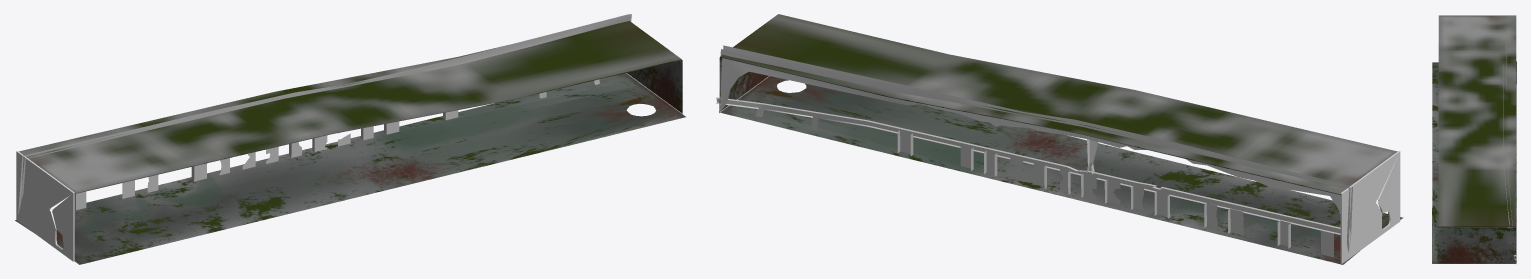
The model's file is parois_salle_4_bonne_taille.fbx.
3 views of the same model, side by side, from view 1: azimuth 30°, elevation 25°; view 2: azimuth 150°, elevation 25°; view 3: azimuth 270°, elevation 25° (orthographic). The views are drawn at different scales.
Visible parts, largest first — view 1: fishs.046, salle4/4.002, fond, Plane, salle4/4.001; view 2: salle4/4.002, fishs.046, fond, Plane, salle4/4.001; view 3: salle4/4.002, salle4/4.001, fishs.046, fond, Plane.
Boxes of the visible parts, x1,y1,x2,y2 form: fishs.046: [15, 73, 685, 264]; salle4/4.002: [19, 21, 681, 193]; fond: [18, 14, 631, 214]; Plane: [16, 151, 74, 261]; salle4/4.001: [627, 59, 682, 113]; salle4/4.002: [720, 14, 1397, 194]; fishs.046: [720, 76, 1403, 264]; fond: [716, 45, 1352, 257]; Plane: [1340, 151, 1400, 263]; salle4/4.001: [719, 57, 768, 110]; salle4/4.002: [1438, 16, 1516, 226]; salle4/4.001: [1437, 227, 1515, 263]; fishs.046: [1432, 61, 1516, 263]; fond: [1503, 41, 1516, 264]; Plane: [1438, 15, 1516, 42].
Size of the model in its own units: 4060 by 461 by 713.
